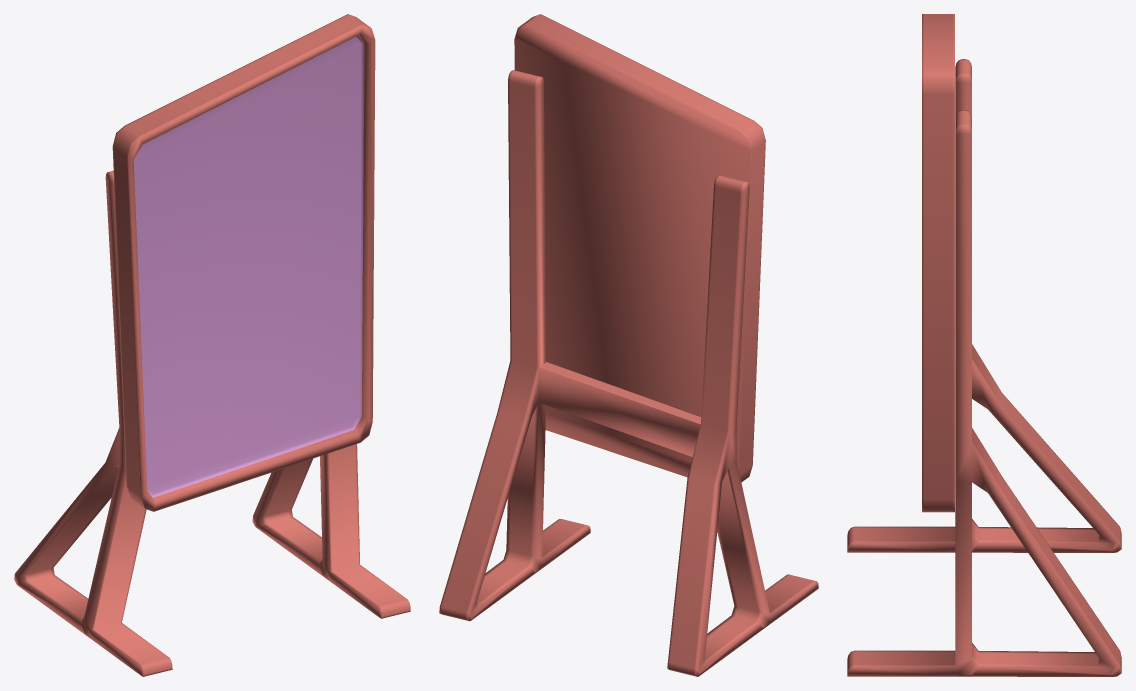
File: SM_Board.fbx
3 views of the same model, side by side, from view 1: azimuth 30°, elevation 25°; view 2: azimuth 150°, elevation 25°; view 3: azimuth 270°, elevation 25° (orthographic). The views are drawn at different scales.
Parts seen in each view (by area): view 1: SM_Board; view 2: SM_Board; view 3: SM_Board.
Boxes of the visible parts, x1,y1,x2,y2 form: SM_Board: (14,14,410,676); SM_Board: (439,14,818,676); SM_Board: (847,14,1121,676).
Bounding box in the file's own units: 68.14 × 137 × 56.67.
